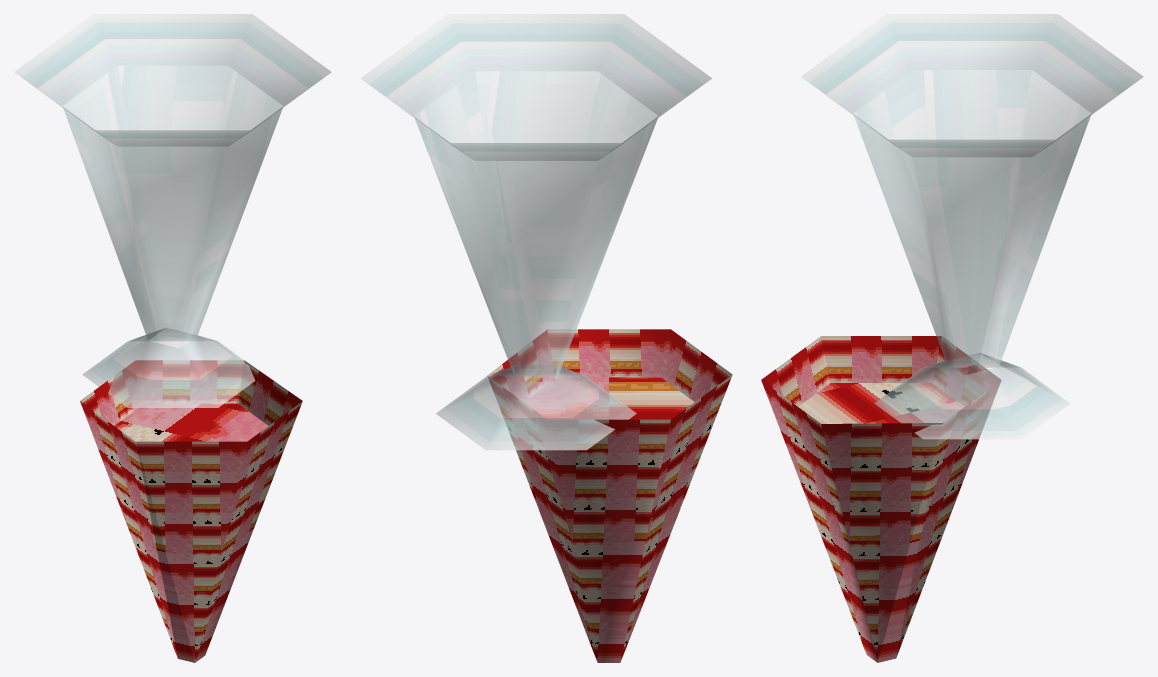
The model's file is 5244item2925.gltf.
3 views of the same model, side by side, from view 1: azimuth 30°, elevation 25°; view 2: azimuth 150°, elevation 25°; view 3: azimuth 270°, elevation 25° (orthographic). The views are drawn at different scales.
Visible parts, largest first — view 1: 5244item2925; view 2: 5244item2925; view 3: 5244item2925.
Boxes of the visible parts, <box> form: 5244item2925: <box>14,14,331,662</box>; 5244item2925: <box>360,14,732,662</box>; 5244item2925: <box>761,14,1143,662</box>.
Size of the model in its own units: 0.5244 by 1.15 by 0.6755.
Materials: 3 (3 with a texture image).
